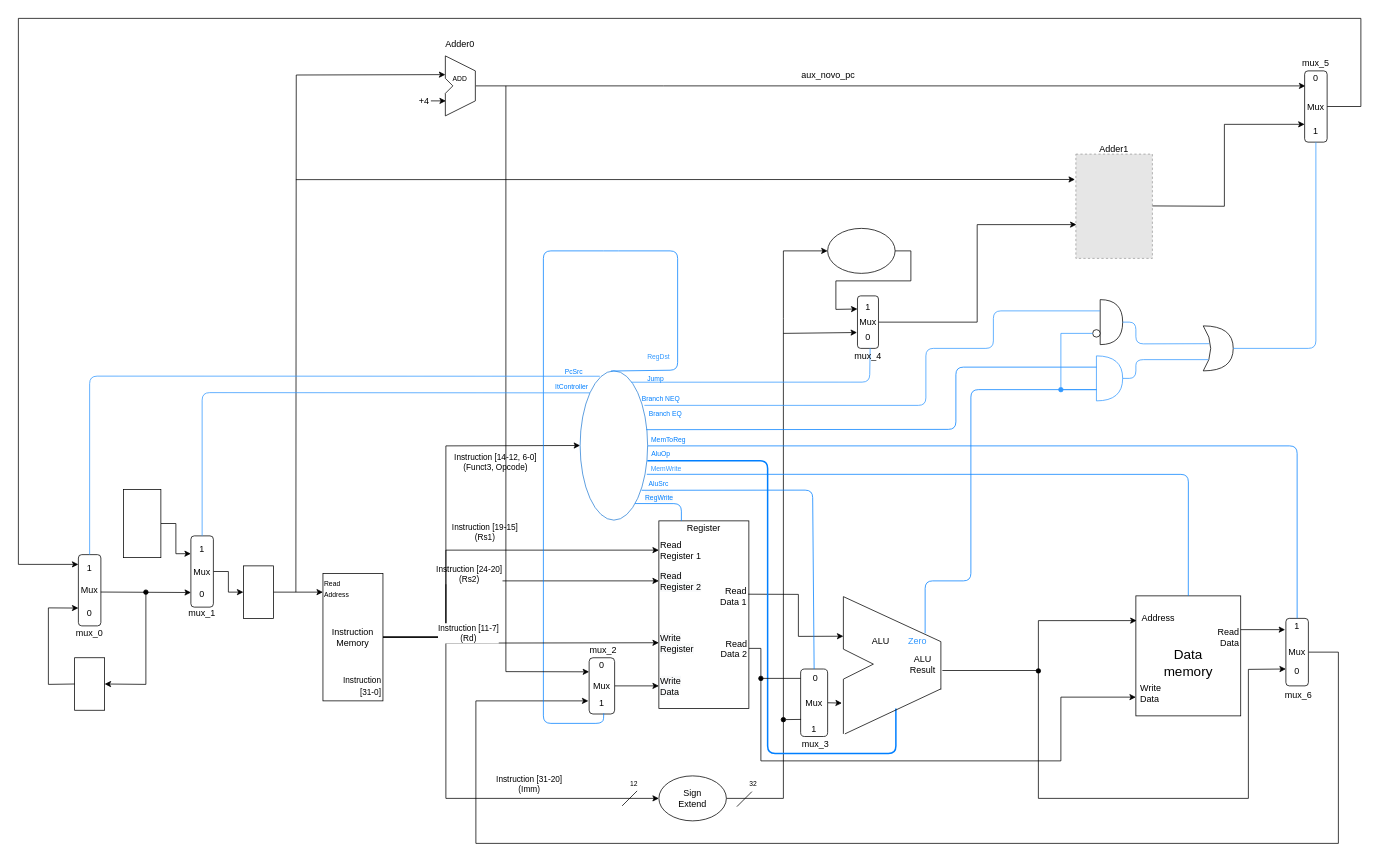
The diagram is 1380 pixels wide and 863 high, and some of its shapes have lost their labels. Grey dashed boxes stand in for pictures. Here are the shapes that lost their labels. From the top down, the centre of each, then its label:
(861,250): Shift Left 2
(613,445): Control
(142,523): Interr. Addr
(258,591): PC
(89,683): EPC
